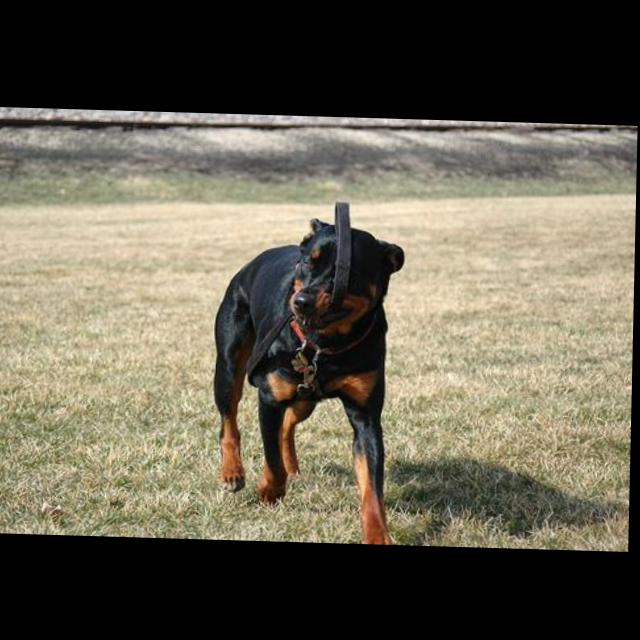rottweiler: (211, 213, 408, 544)
